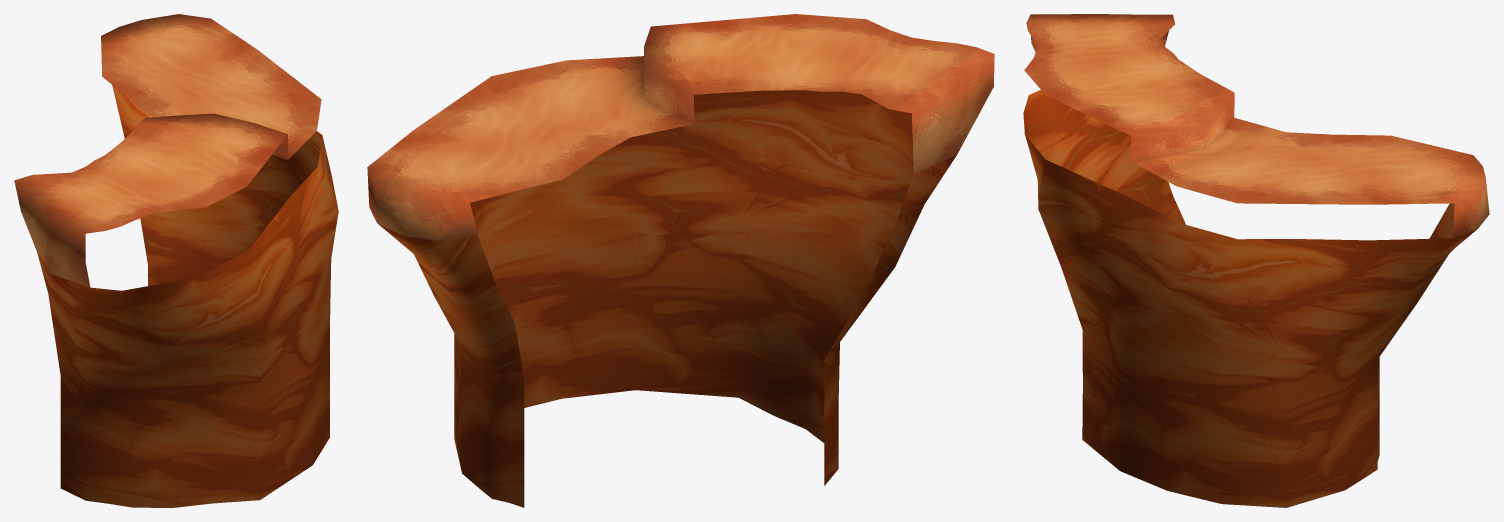
File: path_03.fbx
3 renders of one model, left to right at view 1: azimuth 30°, elevation 25°; view 2: azimuth 150°, elevation 25°; view 3: azimuth 270°, elevation 25°, orthographic. The views are drawn at different scales.
Parts seen in each view (by area): view 1: path_03; view 2: path_03; view 3: path_03.
Part boxes in pixels (left/top/right/bottom): path_03: left=14, top=14, right=338, bottom=507; path_03: left=367, top=14, right=994, bottom=507; path_03: left=1023, top=14, right=1489, bottom=507.
Bounding box in the file's own units: 45.26 × 40.55 × 52.05.
Materials: 1 (1 with a texture image).
